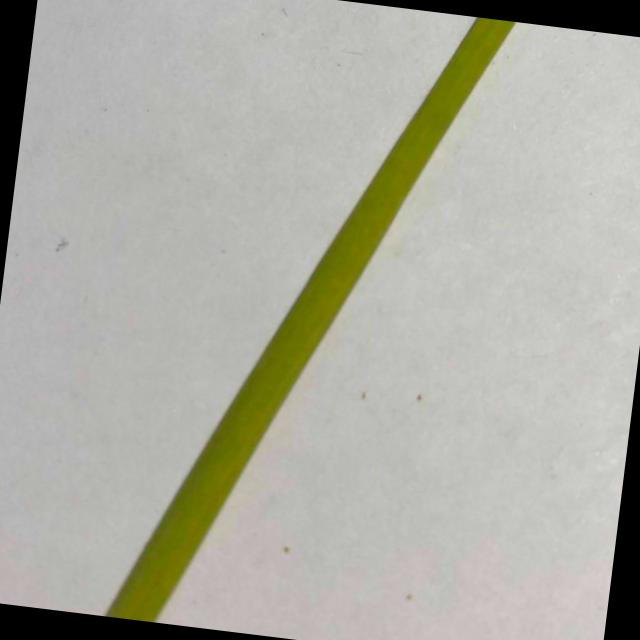Rice_Healthy: (104, 17, 515, 622)
